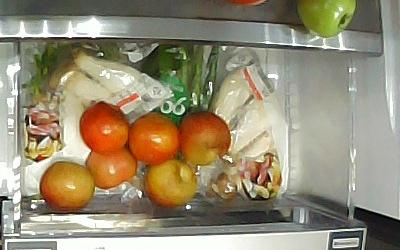prune: (176, 109, 231, 165), (38, 159, 95, 212), (126, 110, 180, 164), (78, 100, 129, 154), (142, 157, 197, 207), (84, 147, 138, 188)
